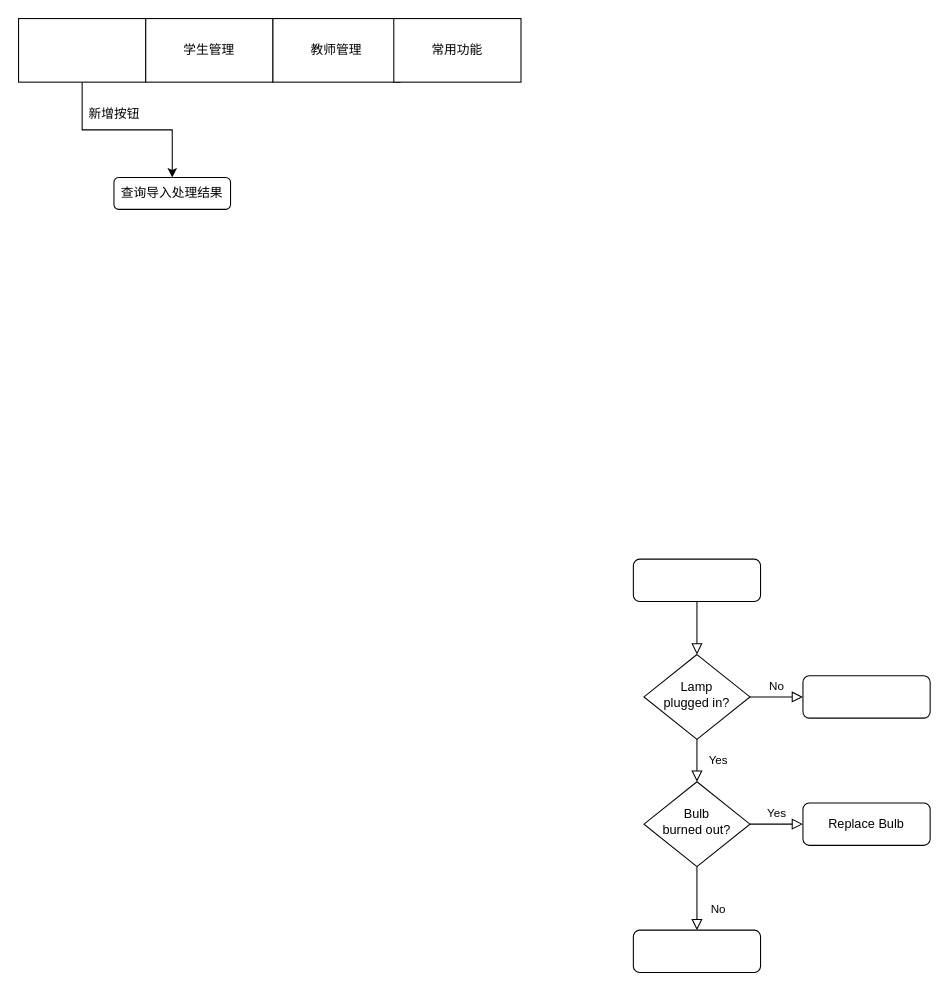
Some shapes in this 949 by 991 pixel diagram are drawn without their labels. Each missing label, with the centre of its shape:
"Lamp doesn't work" goes at (696,580).
"Plug in lamp" goes at (866,696).
"Repair Lamp" goes at (696,951).
"班级管理" goes at (81,49).
